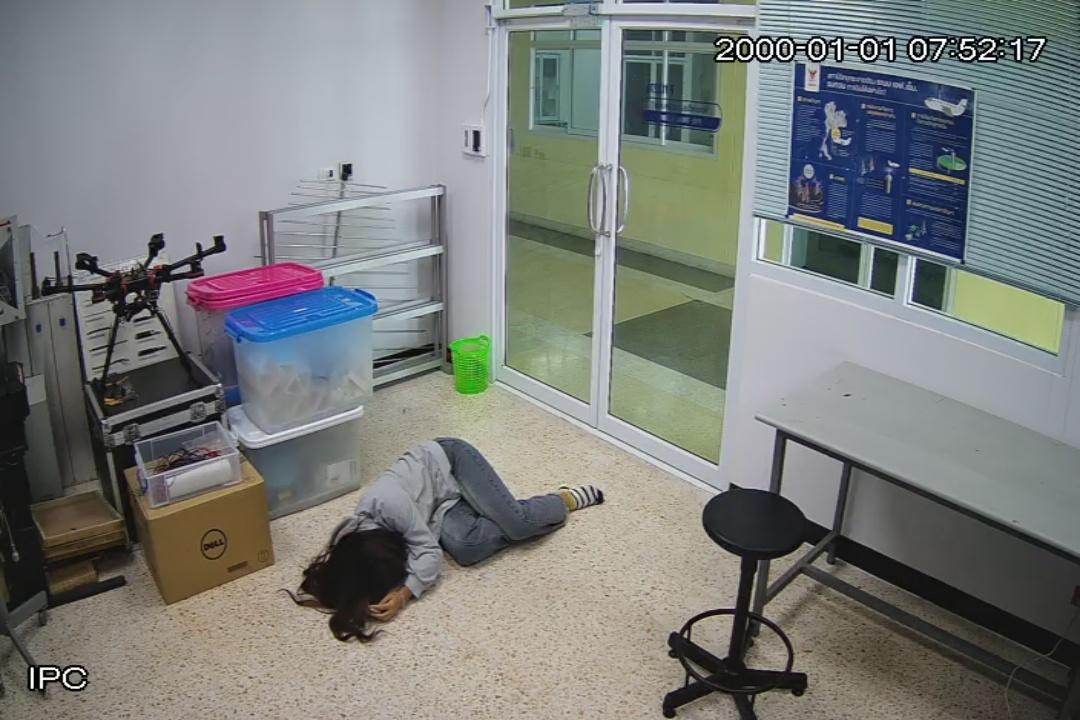fall: (311, 432, 608, 629)
